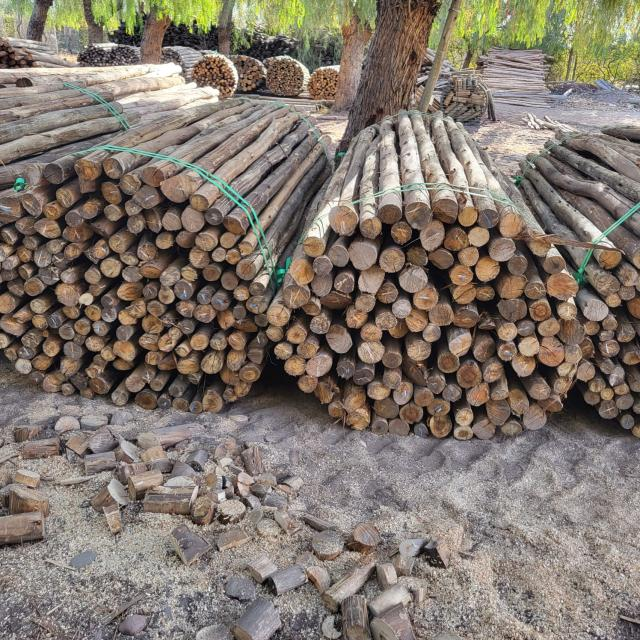package: (274, 192, 582, 442), (1, 156, 274, 410), (585, 194, 640, 439), (190, 55, 238, 98), (268, 60, 304, 96), (237, 57, 264, 96), (311, 68, 337, 104), (79, 44, 108, 68), (112, 43, 134, 62), (163, 48, 180, 65)
